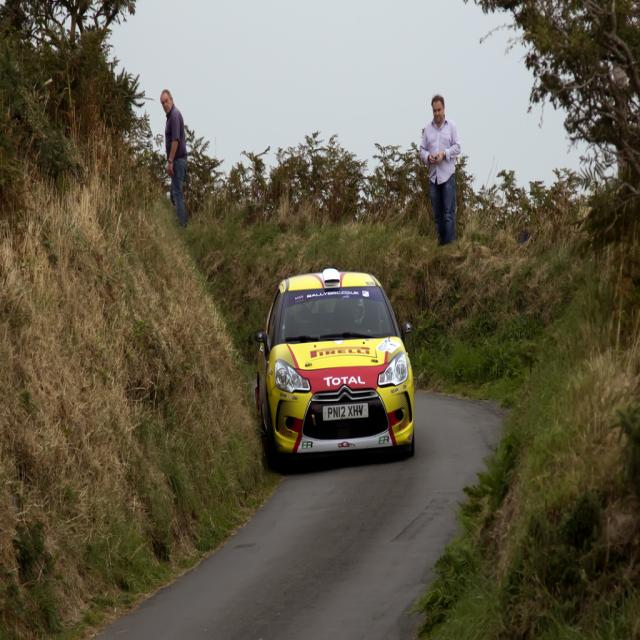car: (254, 265, 415, 457)
